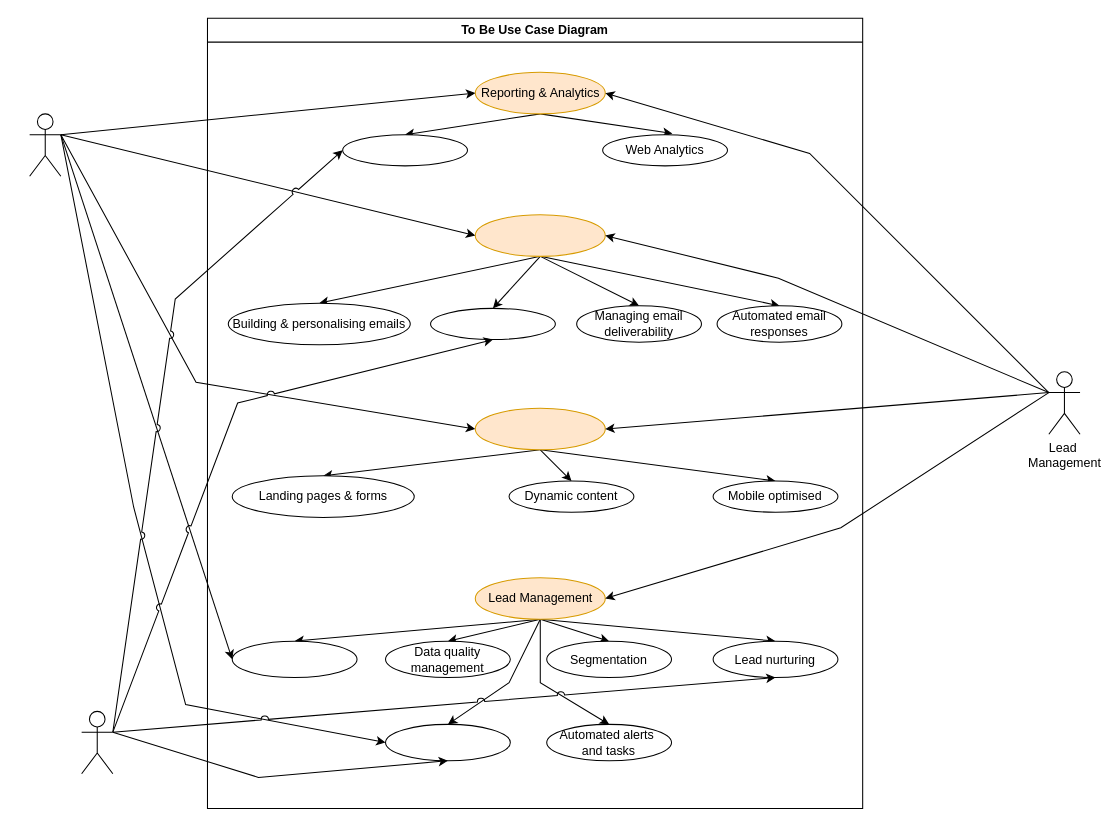
Image size: 1119x827. Some labels were removed from this diagram. Here are the shapes that lost their labels. From the top down, the box of each, then its label:
(29, 113, 61, 176): Marketing Staff
(342, 134, 467, 166): Basic Reporting
(474, 214, 605, 256): Email Marketing
(430, 307, 555, 340): Sending emails
(474, 407, 605, 450): Online Marketing
(231, 640, 357, 678): Marketing lead database
(81, 710, 113, 774): Sales Staff
(384, 723, 510, 761): Online behaviour tracking
